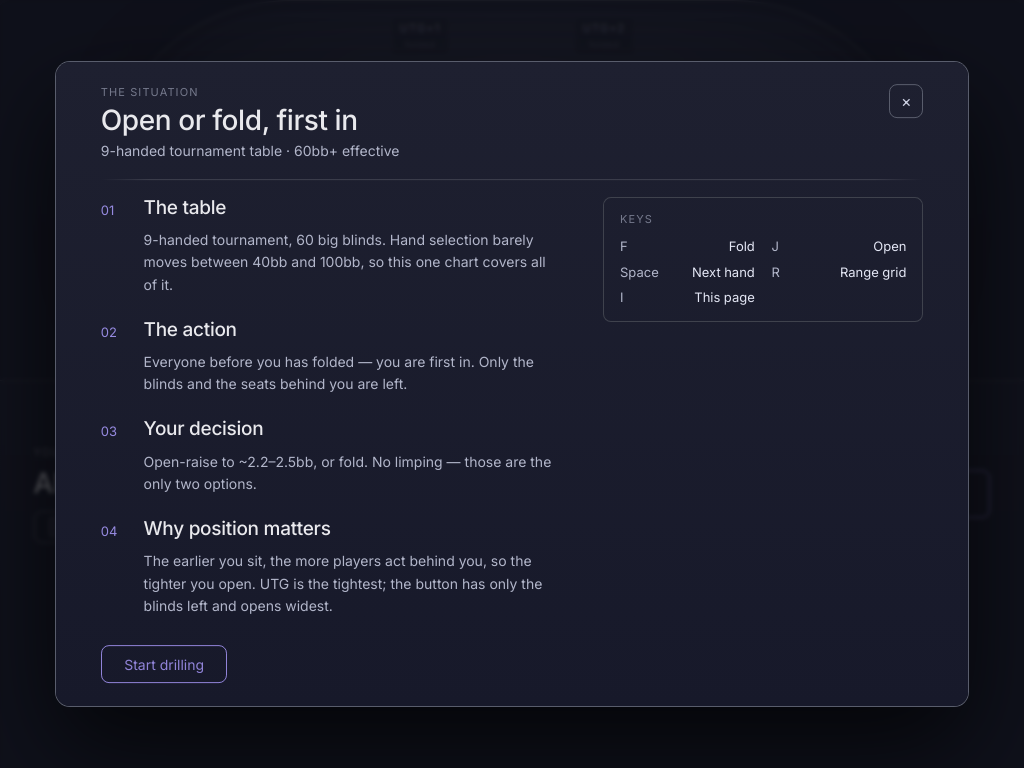
it: PreflopTrainer › J key commits open
This screenshot has width=1024, height=768.
Click the button named "close situation info" at (906, 102), box [889, 84, 923, 118]
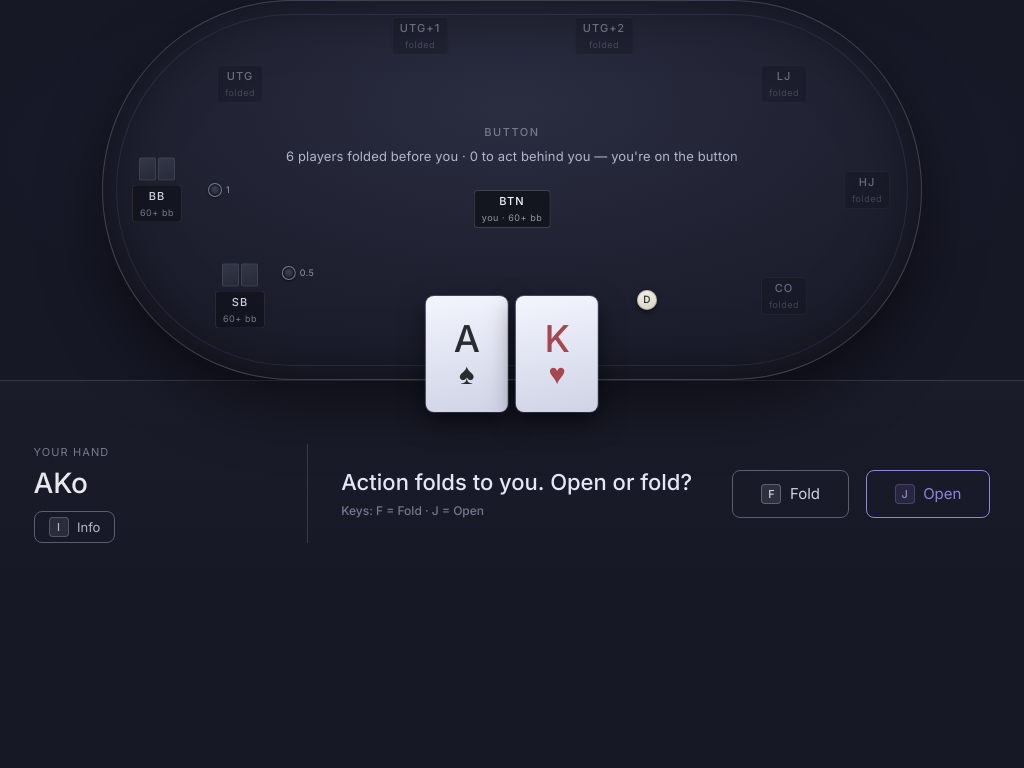
Press j
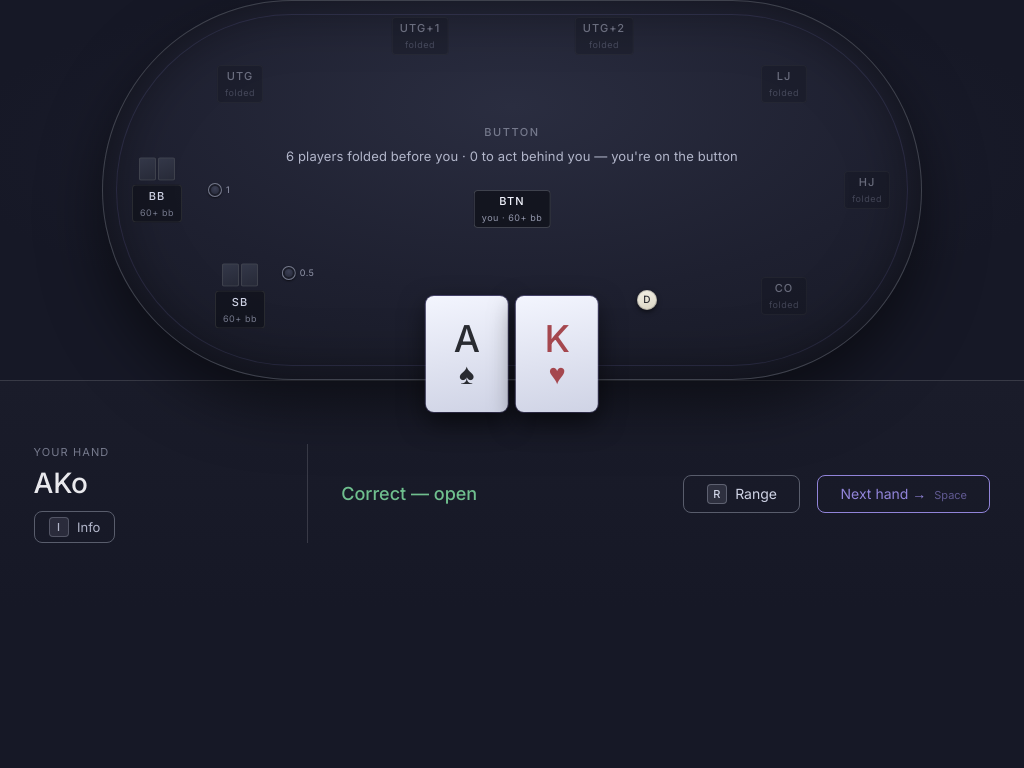
Now the text "Correct — open" is shown, box [341, 480, 477, 507]
